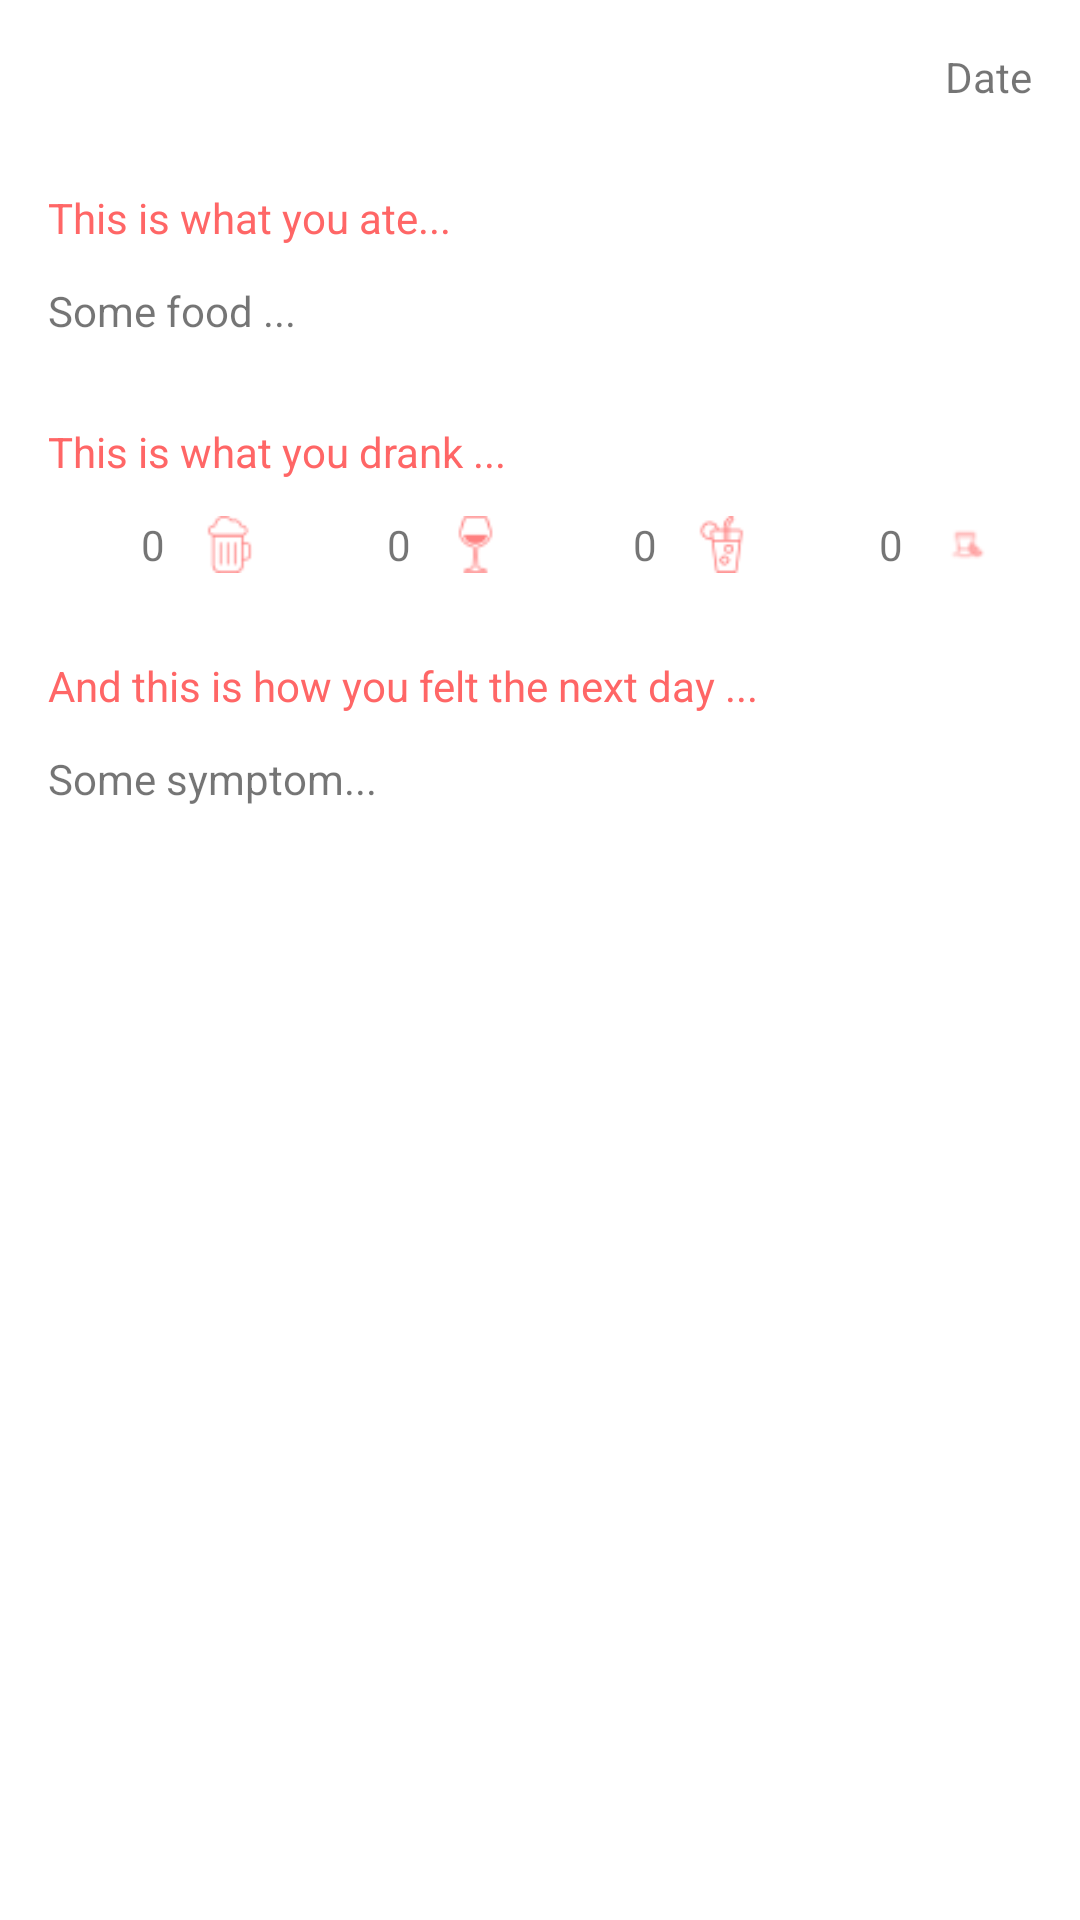

Where icons sit on this 1080px x 1920px app screen, as (x1, y1, x2, y2):
beer: (208, 516, 251, 573)
drink: (700, 516, 743, 573)
wine: (458, 516, 493, 573)
